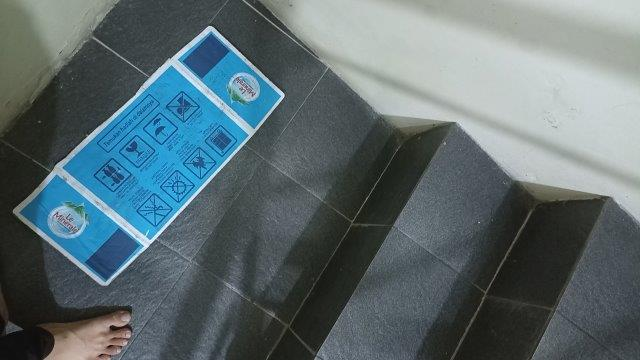kardus: (15, 27, 284, 284)
